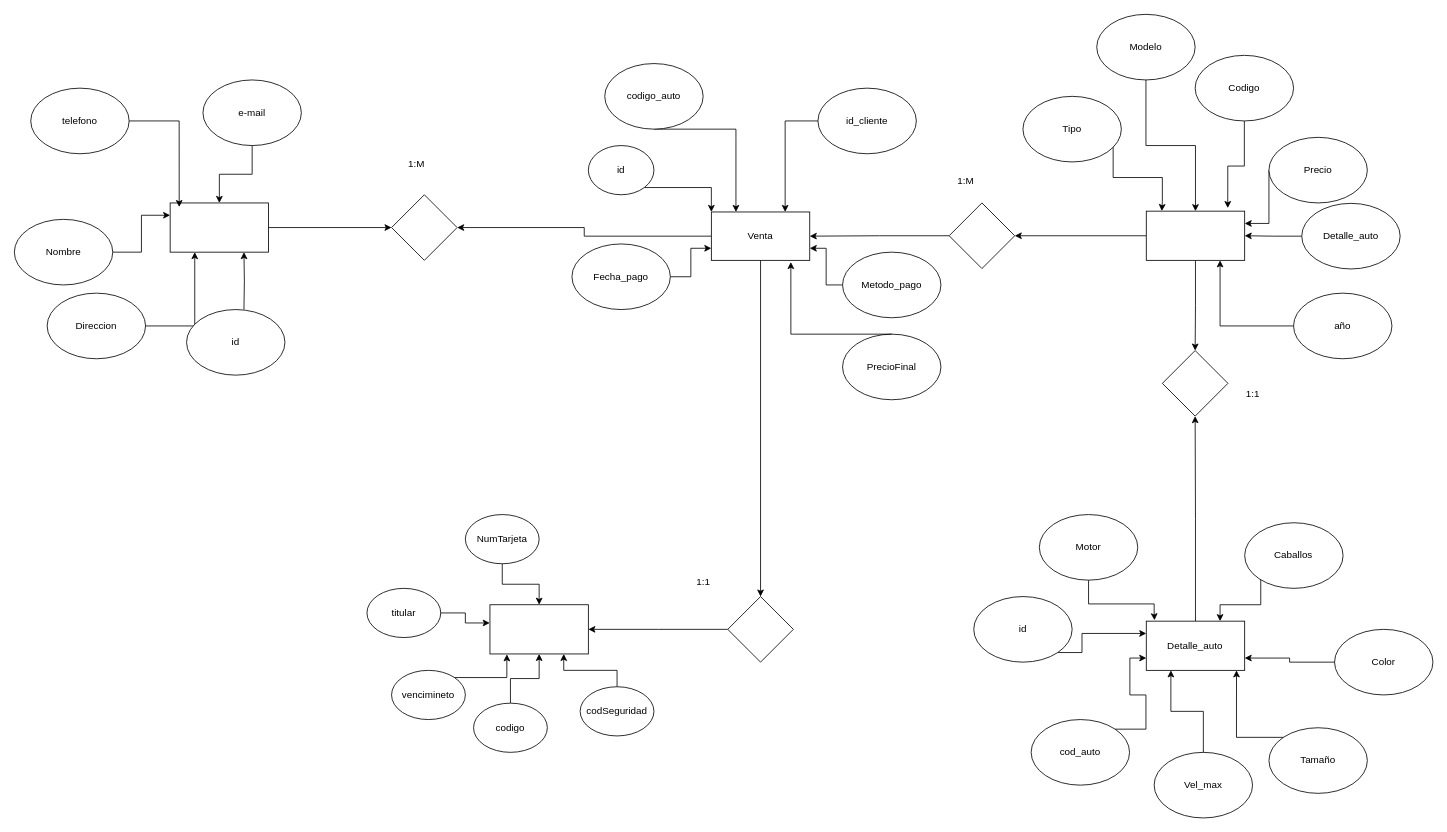
Some shapes in this 1447 by 832 pixel diagram are drawn without their labels. Each missing label, with the centre of its shape:
"Auto" goes at [1195,235].
"Cliente" goes at [219,227].
"es vendido" goes at [981,235].
"Factura" goes at [538,629].
"genera" goes at [760,629].
"realiza" goes at [424,227].
"tiene" goes at [1195,383].
